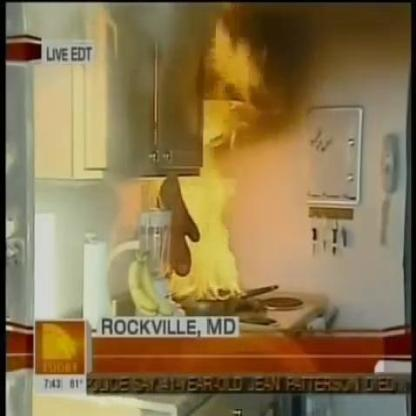fire: (166, 151, 242, 308)
